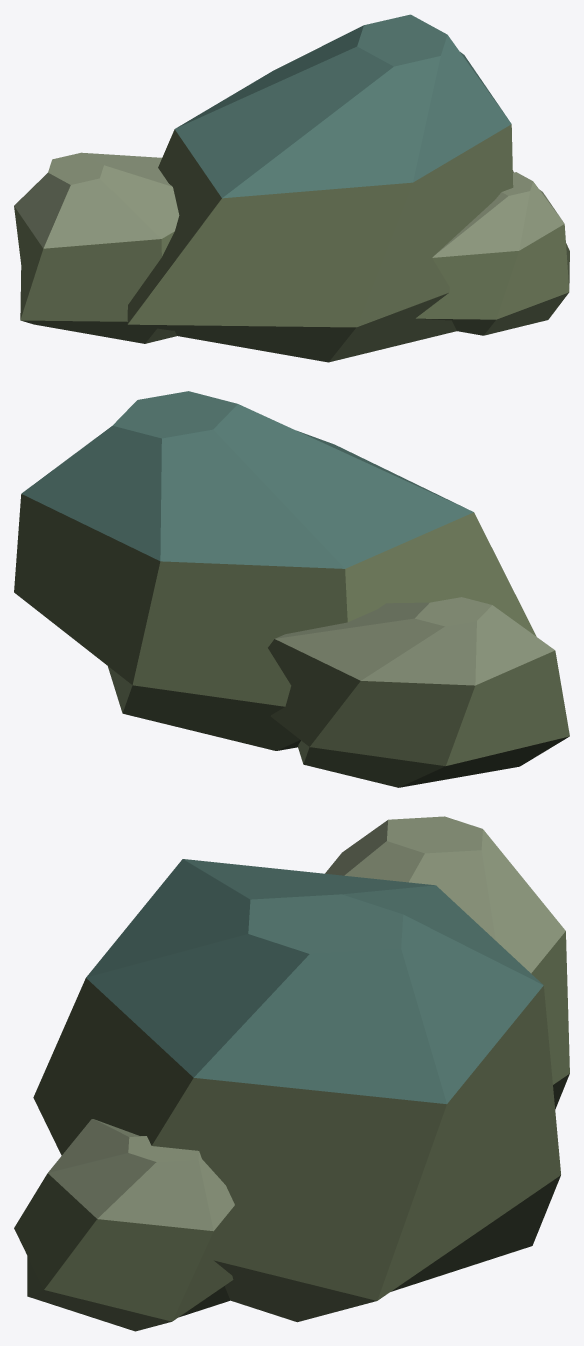
Rendered from moss-cover.glb.
The picture shows the model from 3 angles, top to bottom: view 1: azimuth 30°, elevation 25°; view 2: azimuth 150°, elevation 25°; view 3: azimuth 270°, elevation 25°; orthographic projection. The views are drawn at different scales.
Visible parts, largest first — view 1: moss-cover; view 2: moss-cover; view 3: moss-cover.
Part boxes in pixels (left/top/right/bottom): moss-cover: left=14, top=14, right=569, bottom=362; moss-cover: left=14, top=391, right=569, bottom=787; moss-cover: left=14, top=816, right=569, bottom=1331.
Bounding box in the file's own units: 0.9338 × 0.39 × 0.5846.
